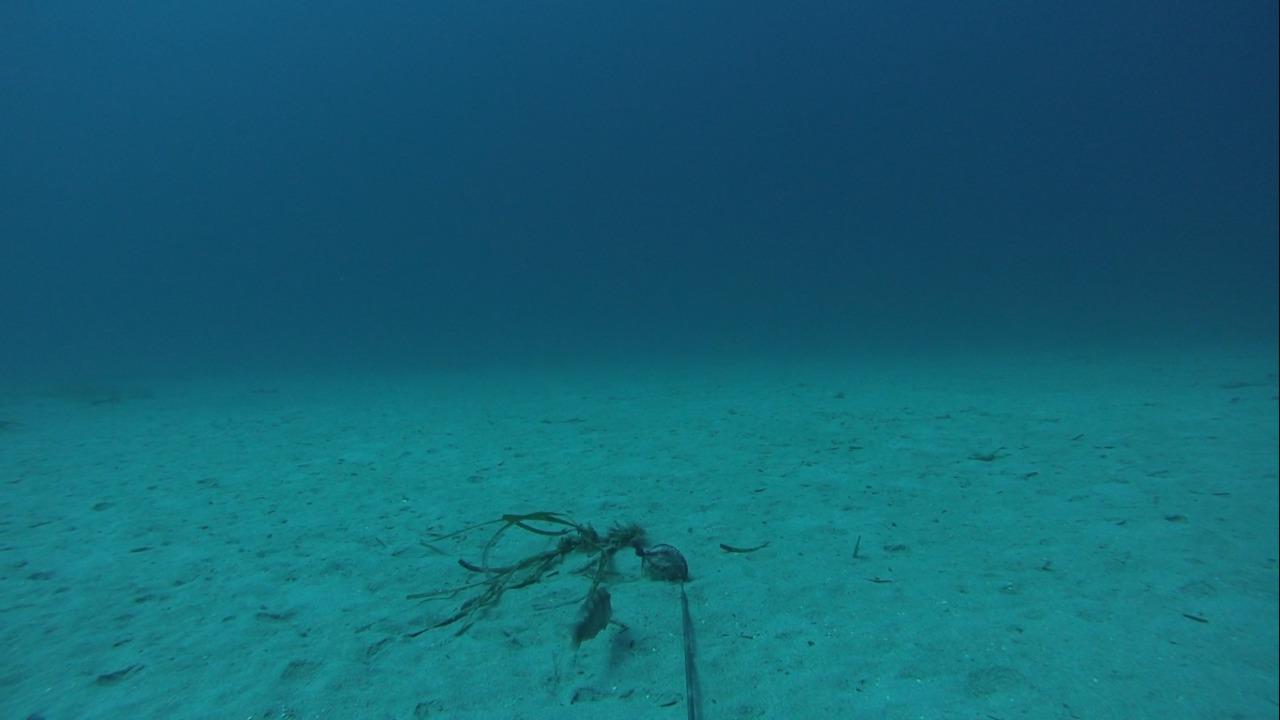raor: (558, 575, 623, 658)
